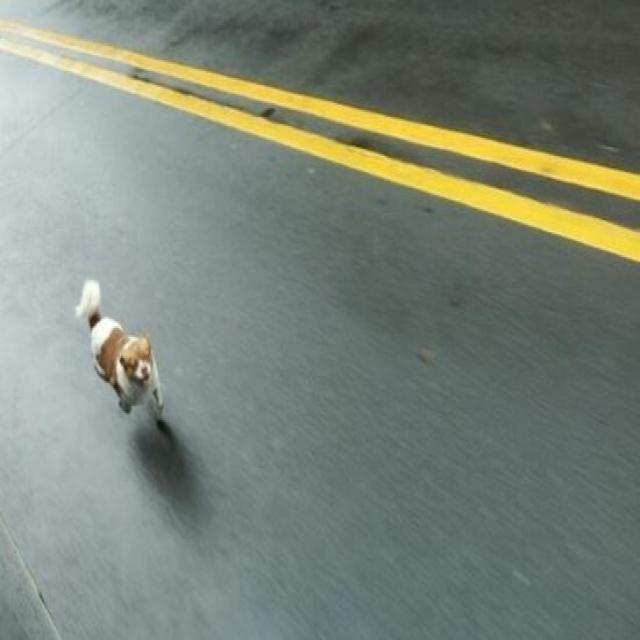dog: (61, 277, 183, 451)
